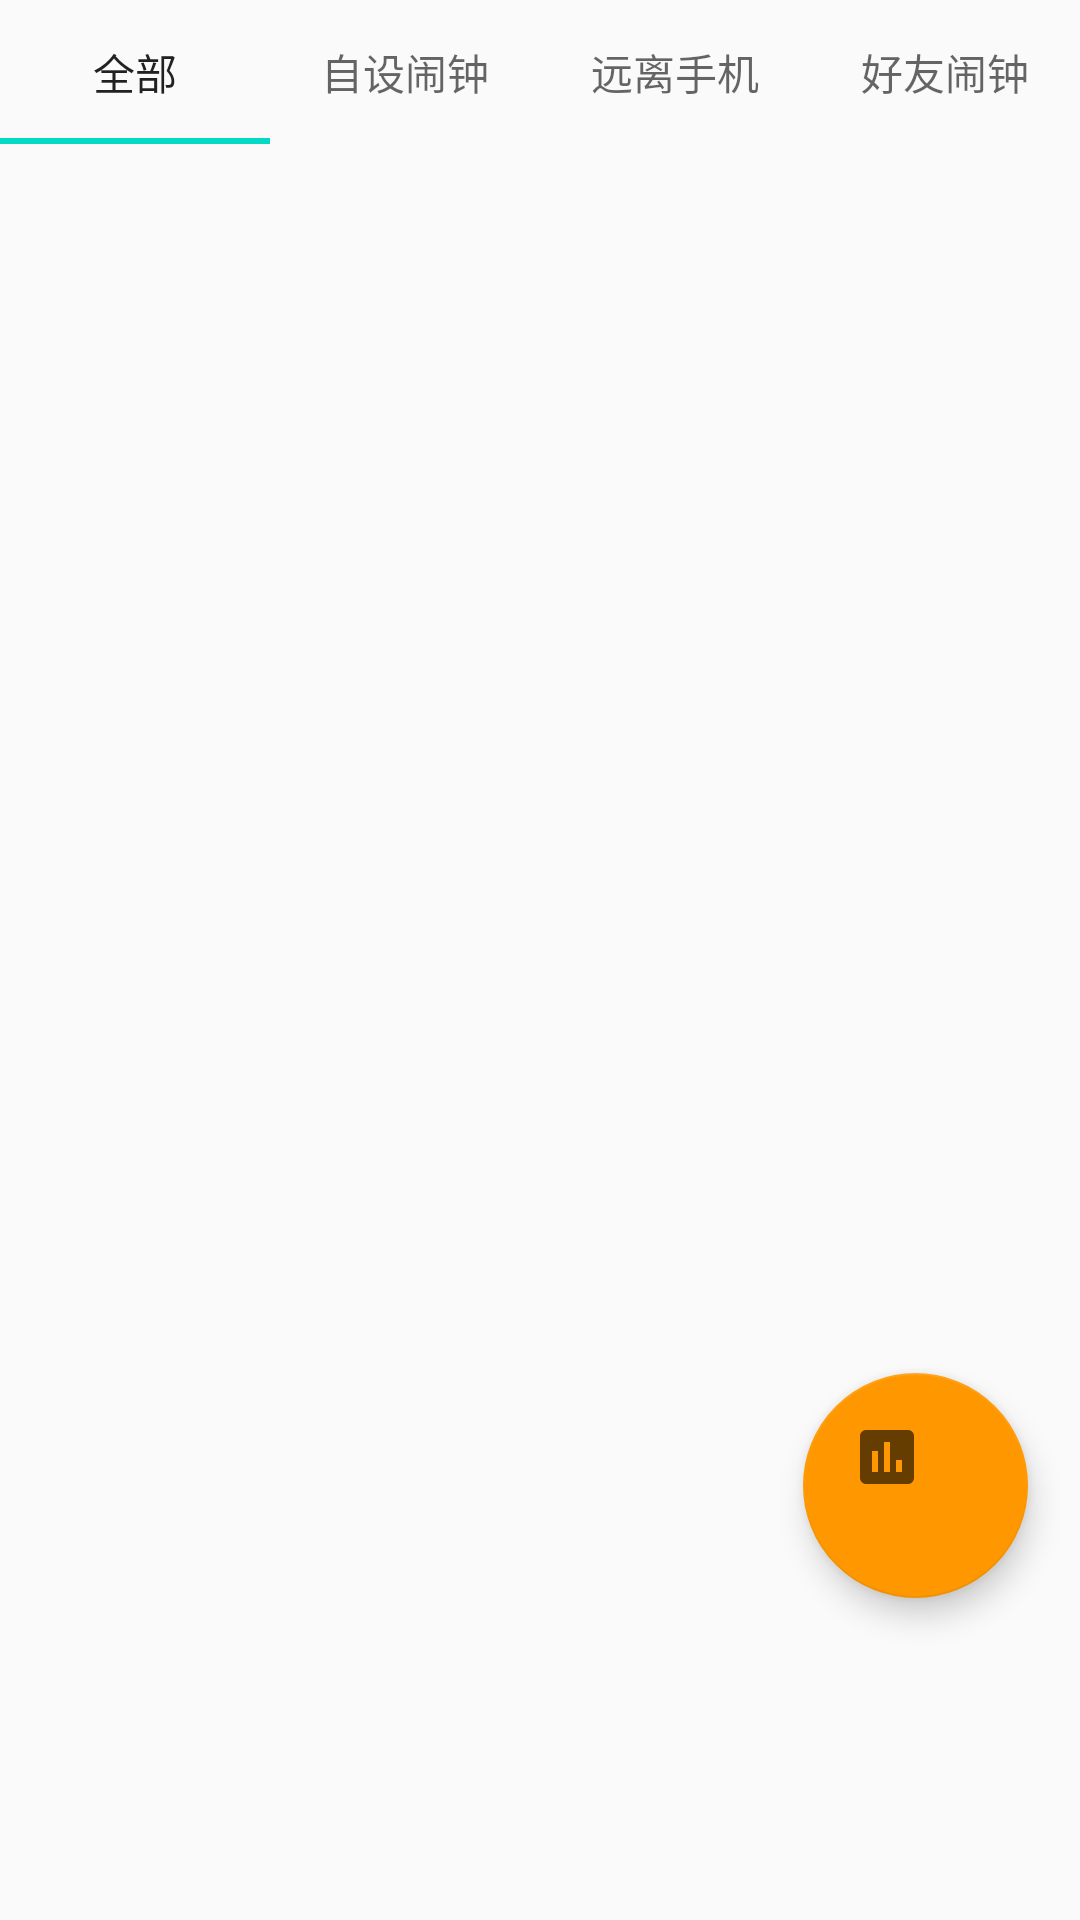

Icons on this 1080×1920 Android screen, each with its box as bbox=[x1, y1, x2, y2]:
assessment: bbox=[803, 1373, 1028, 1598]
